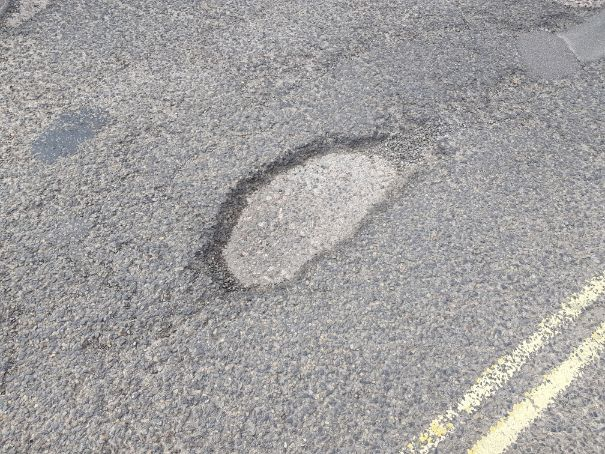pothole: (191, 119, 461, 294)
